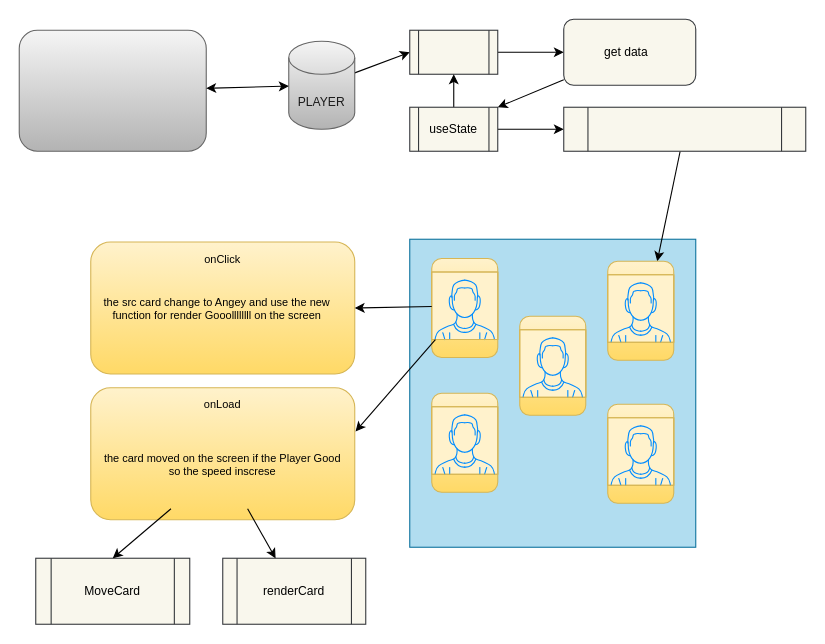
This 825x644 diagram has some shape labels left out. The box of each missing label's shape, as (x1, y1, x2, y2) in pixels:
Card Player component: (563, 106, 806, 151)
player : name , speed , clicked , srcHappy , srcAngry: (18, 29, 206, 151)
userEffect: (409, 29, 498, 74)
